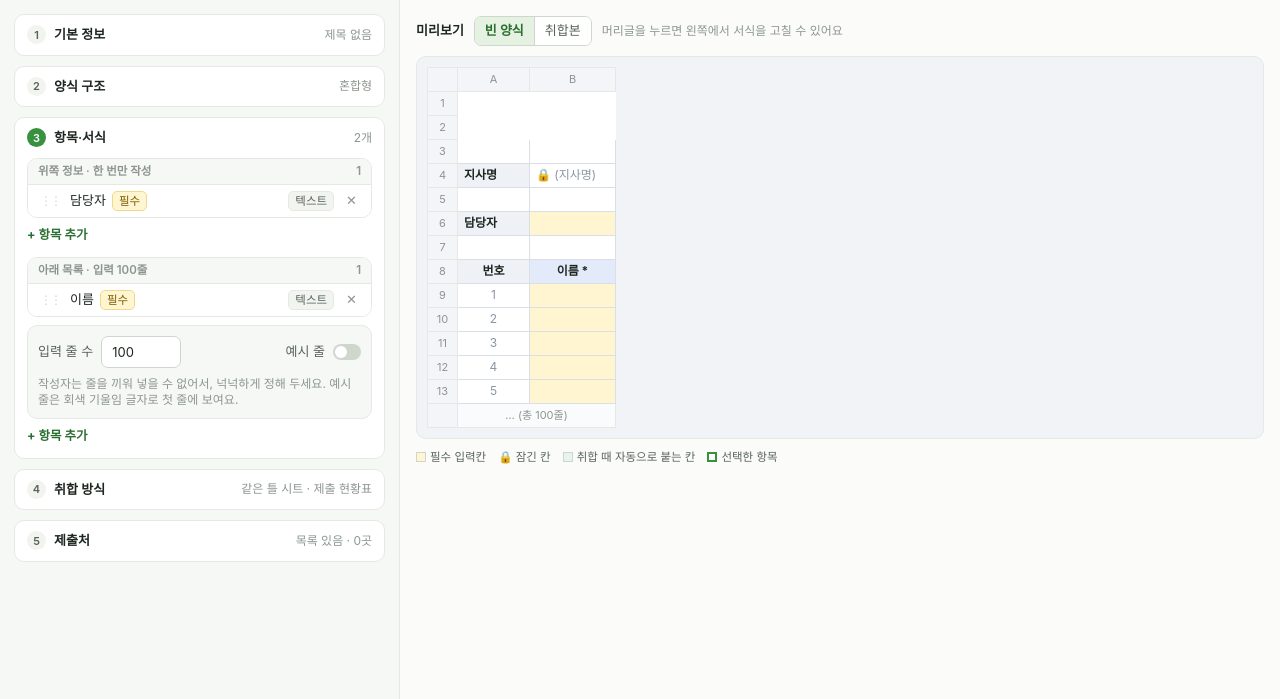
Test: 빌더가 뜨고, 미리보기 머리글을 누르면 왼쪽 항목 편집이 열린다
This screenshot has width=1280, height=699.
Click the text "이름 *": click(572, 271) [530,259,616,283]
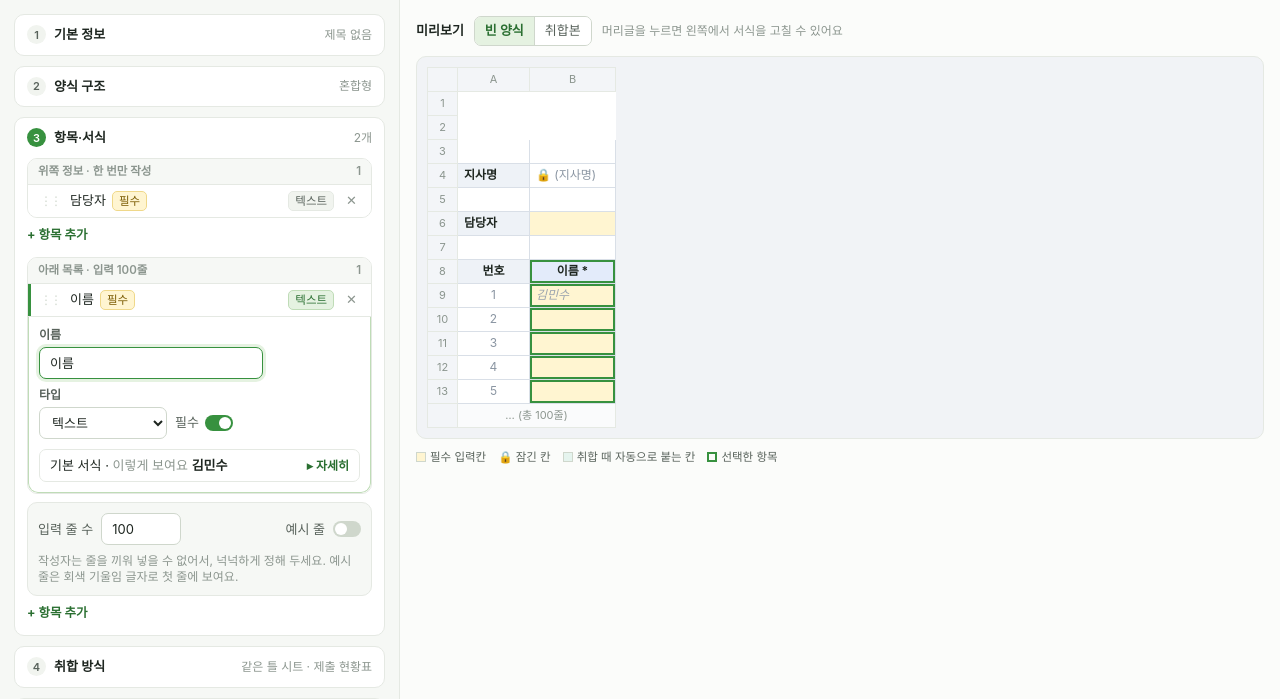
expect the field showing "이름" is shown: met, box [39,347,263,379]
